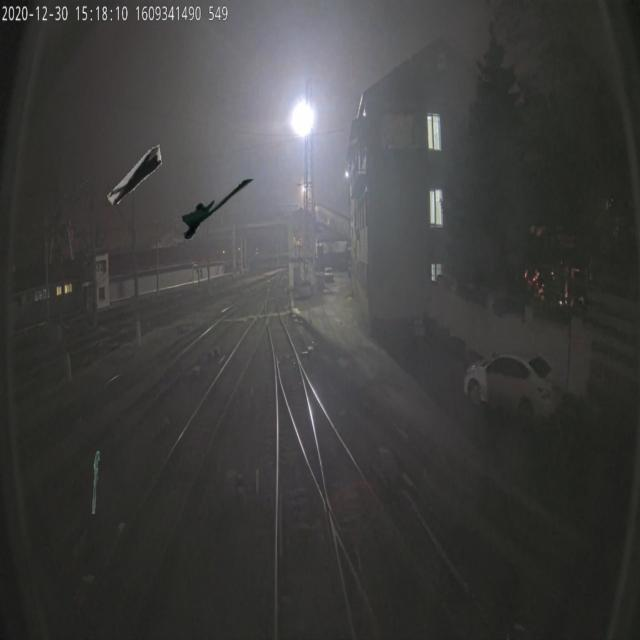floating object: (182, 177, 257, 241), (100, 136, 164, 208), (92, 450, 99, 514)
